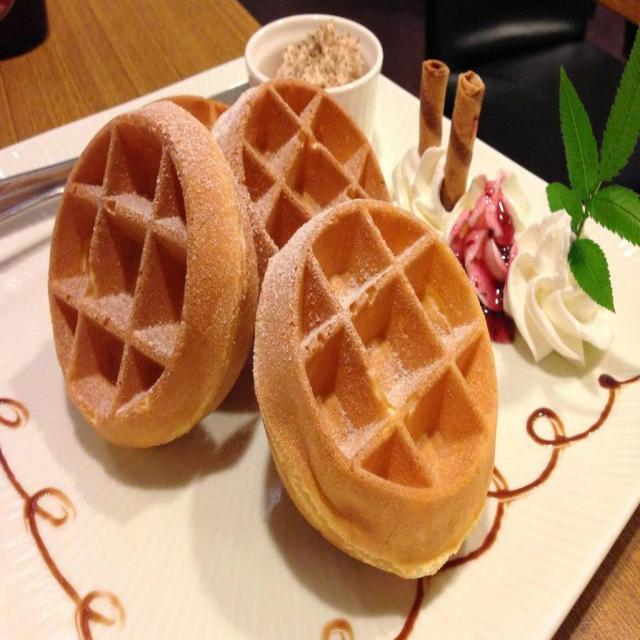Waffle: (252, 196, 500, 582), (48, 98, 260, 448), (212, 76, 392, 286), (149, 93, 231, 127)
